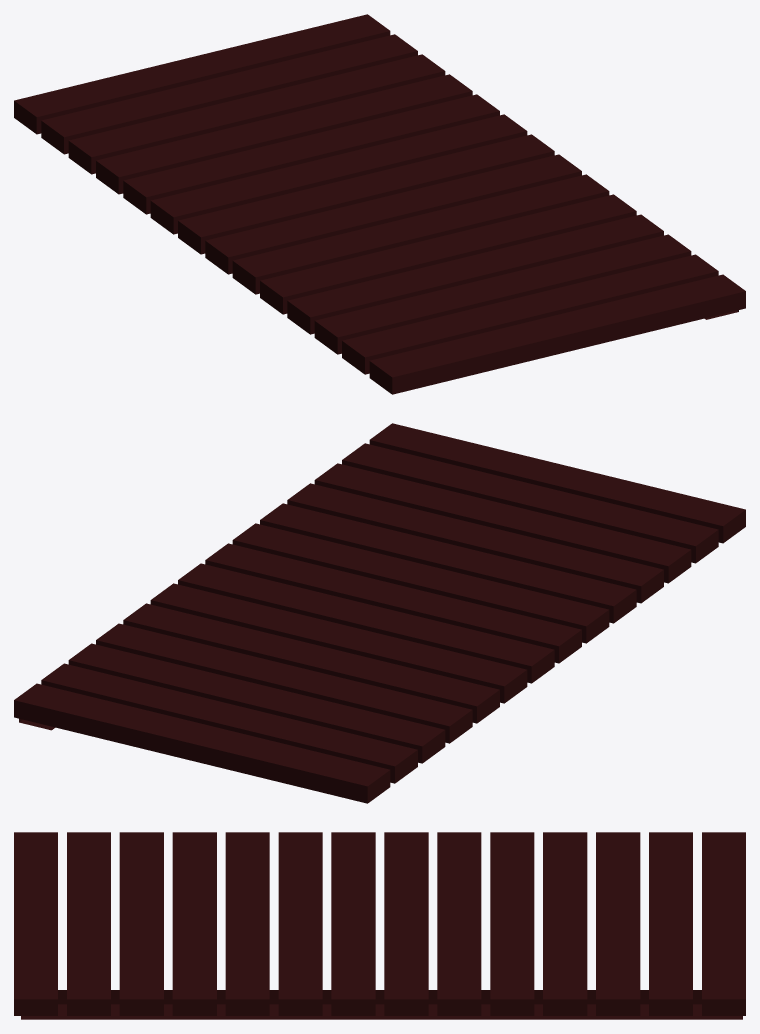
File: Platform Without Guide.fbx
The picture shows the model from 3 angles, top to bottom: view 1: azimuth 30°, elevation 25°; view 2: azimuth 150°, elevation 25°; view 3: azimuth 270°, elevation 25°; orthographic projection. The views are drawn at different scales.
Visible parts, largest first — view 1: Cube.004; view 2: Cube.004; view 3: Cube.004.
Boxes of the visible parts, left/top/right/bottom form: Cube.004: left=14, top=14, right=745, bottom=394; Cube.004: left=14, top=423, right=745, bottom=803; Cube.004: left=14, top=832, right=745, bottom=1019.
Size of the model in its own units: 645 by 39.47 by 1194.
